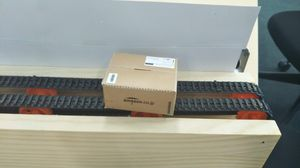box1: (98, 51, 178, 116)
